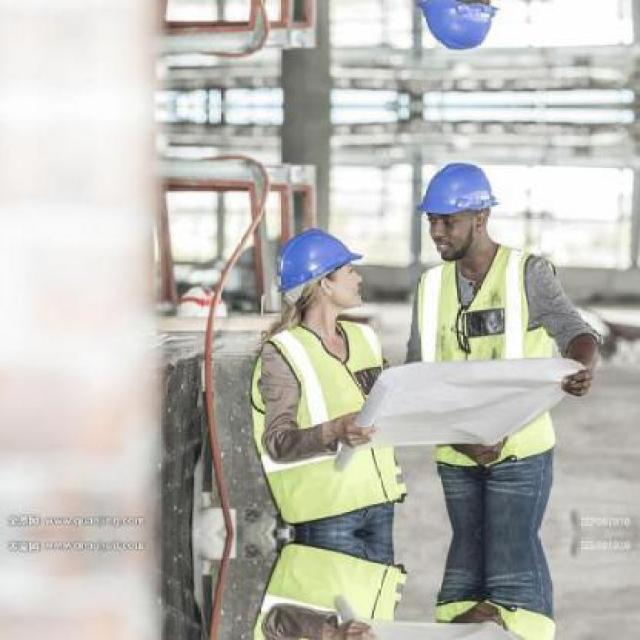helmet: (412, 149, 506, 266), (266, 216, 368, 322), (411, 0, 506, 65)
